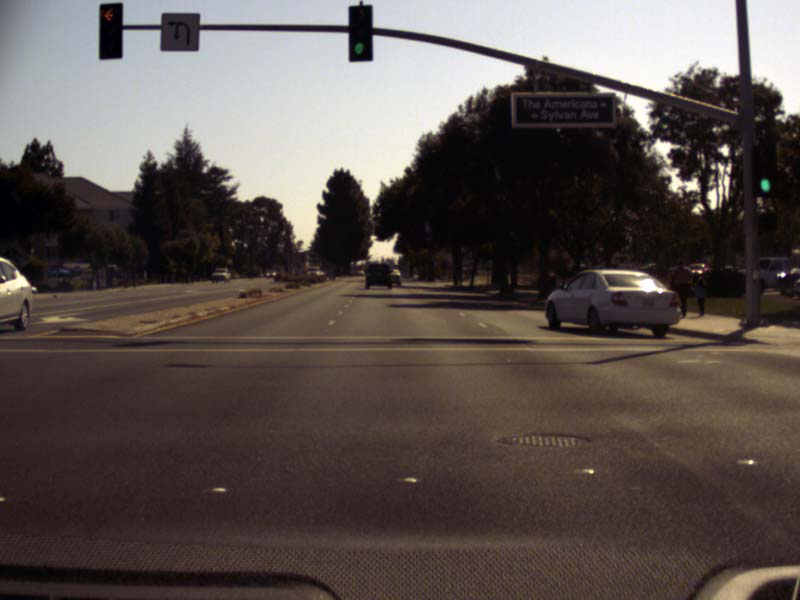Green: (348, 4, 372, 61), (752, 143, 777, 197)
Red: (99, 3, 122, 59)
